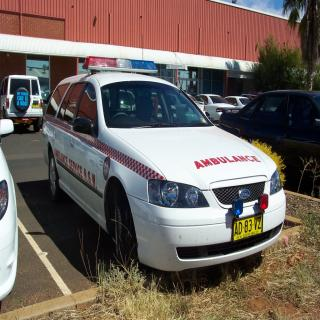license: (234, 213, 264, 240)
